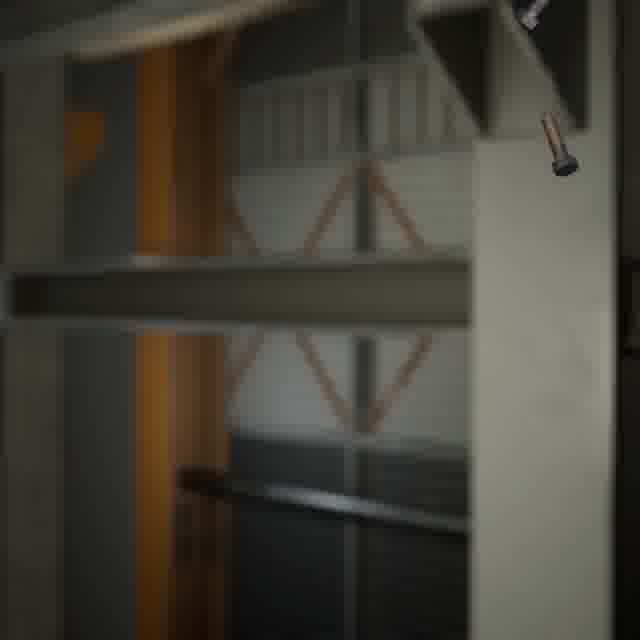bolt: (537, 109, 582, 180), (510, 0, 557, 36)
